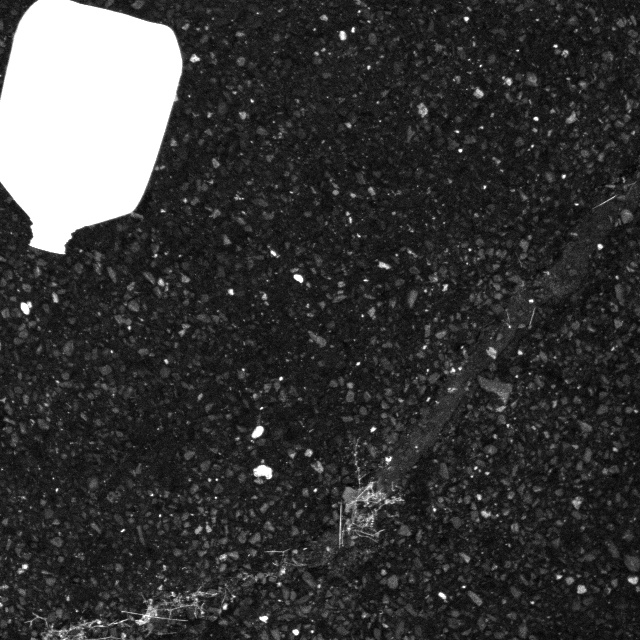can: (0, 0, 195, 261)
